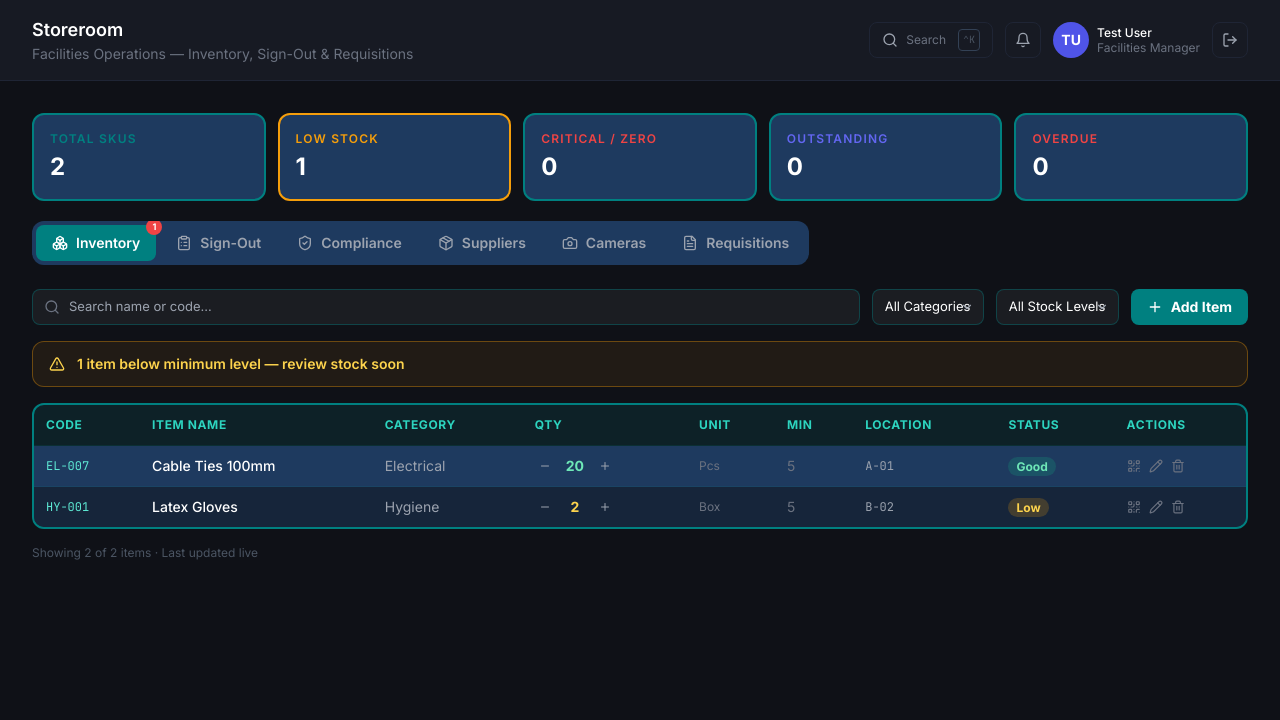
Test case: StoreroomPage › opens Add Item modal when Add Item button is clicked
Click the button "Add Item" at (1189, 307), box [1131,289,1248,325]
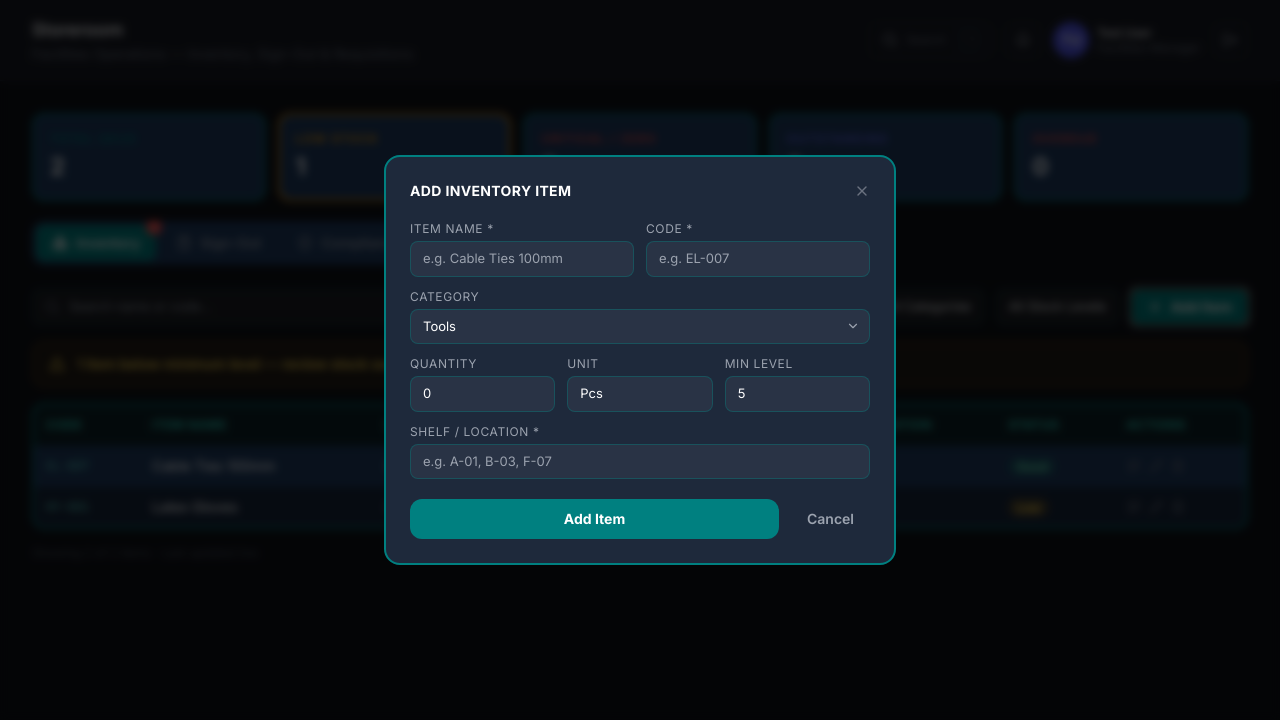
expect the heading "Add Inventory Item" is shown: met, box [410,181,571,201]
